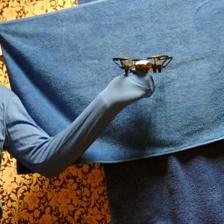drone: (113, 55, 172, 76)
